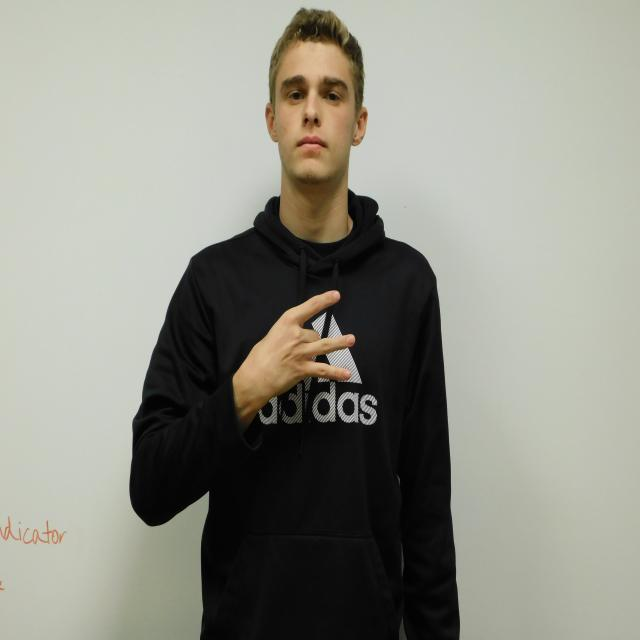like: (257, 291, 355, 395)
